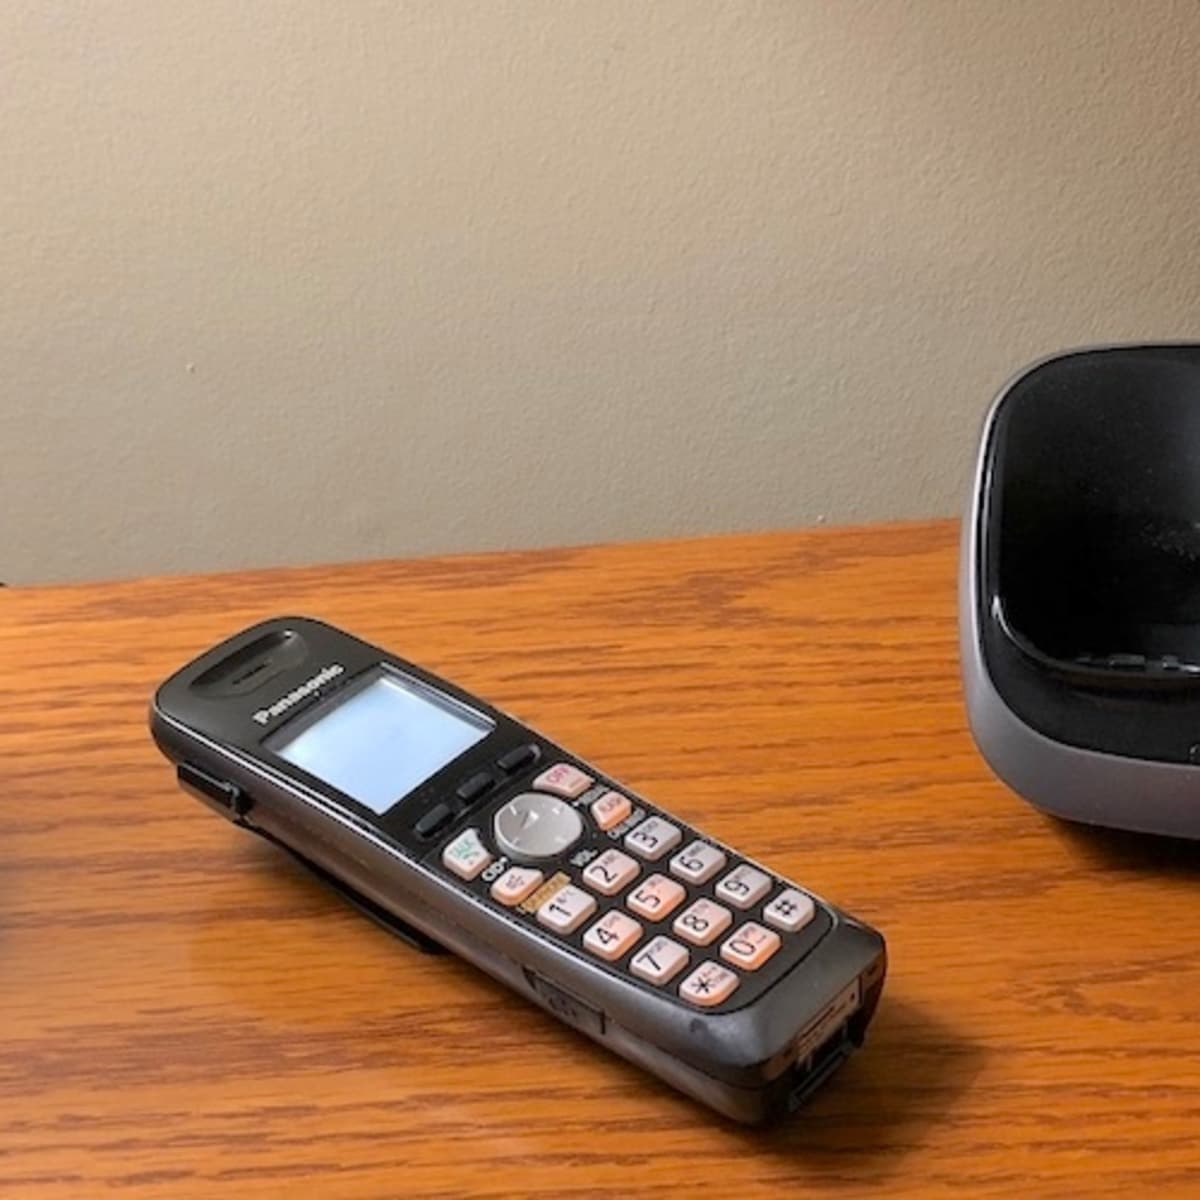telephone: (148, 615, 893, 1146)
